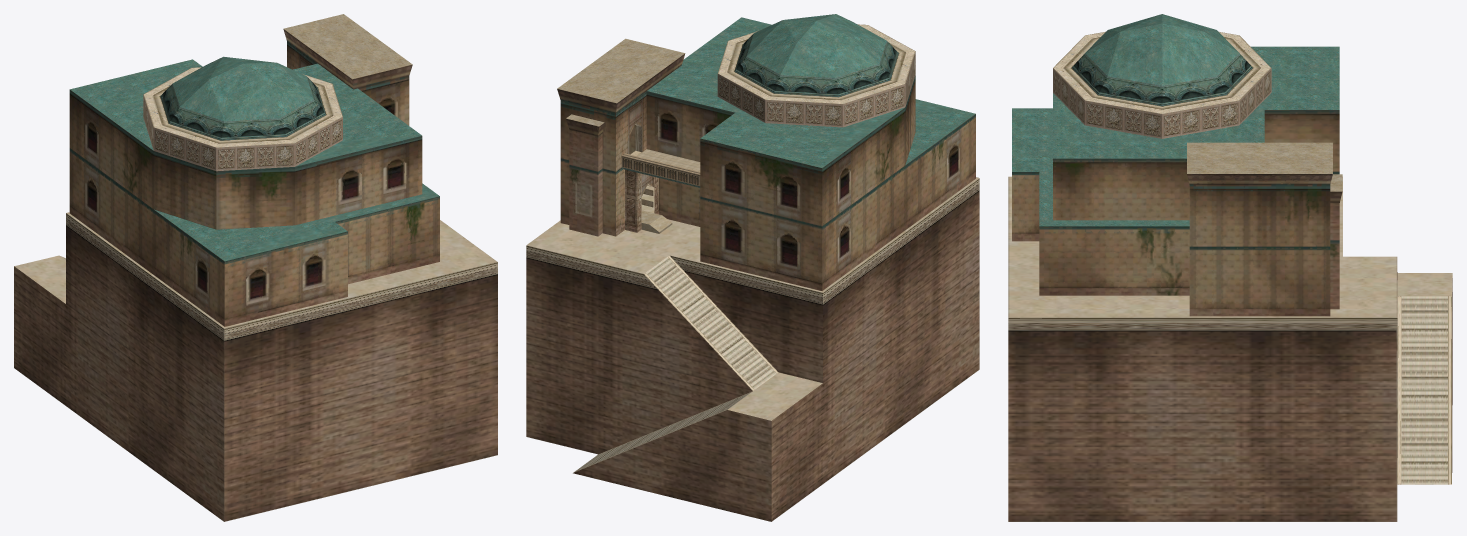
The model's file is ply_nboo_house_m_s01_fp1_r0_mesh_l2.fbx.
3 views of the same model, side by side, from view 1: azimuth 30°, elevation 25°; view 2: azimuth 150°, elevation 25°; view 3: azimuth 270°, elevation 25° (orthographic). The views are drawn at different scales.
Visible parts, largest first — view 1: mesh_node; view 2: mesh_node; view 3: mesh_node.
Part boxes in pixels (x1,y1,x2,y2): mesh_node: [14, 14, 497, 521]; mesh_node: [526, 14, 979, 521]; mesh_node: [1008, 14, 1452, 521].
Bounding box in the file's own units: 24.45 × 32.69 × 32.53.
